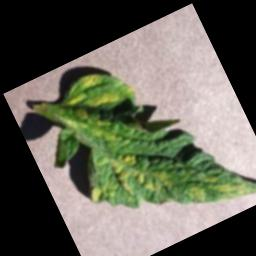Leaf_Mold: (52, 57, 141, 137), (105, 138, 178, 213), (182, 154, 256, 221)
